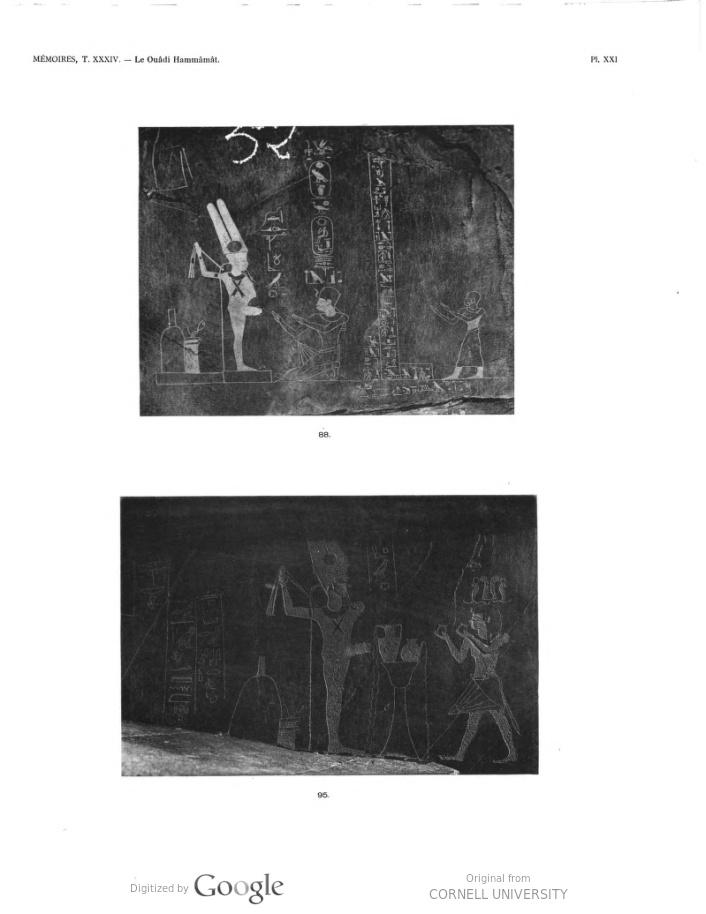circle: (299, 209, 351, 266), (302, 150, 346, 204)
